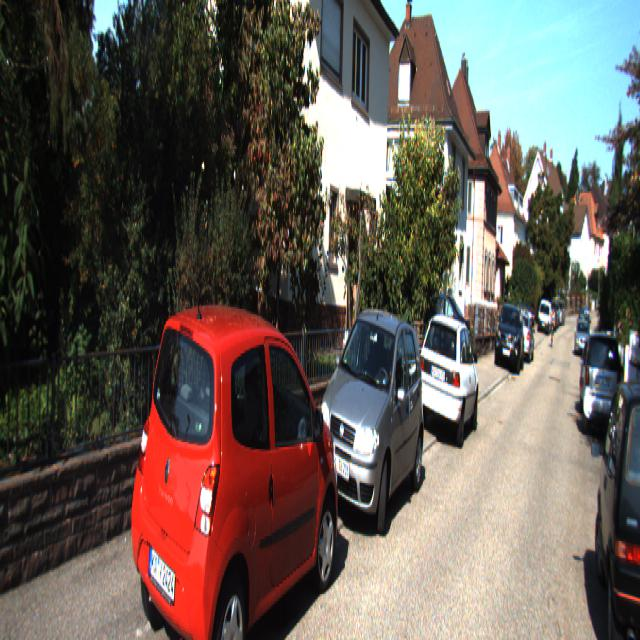Car: (132, 306, 344, 638), (313, 305, 428, 560), (591, 343, 640, 638), (417, 311, 481, 448), (581, 328, 624, 446), (493, 302, 528, 374)
